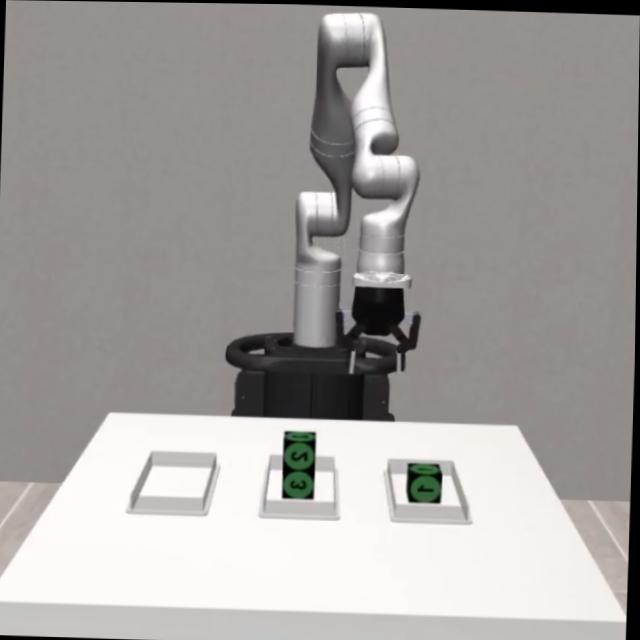cube1: (406, 459, 446, 501)
cube2: (284, 428, 317, 470)
cube3: (282, 468, 316, 499)
